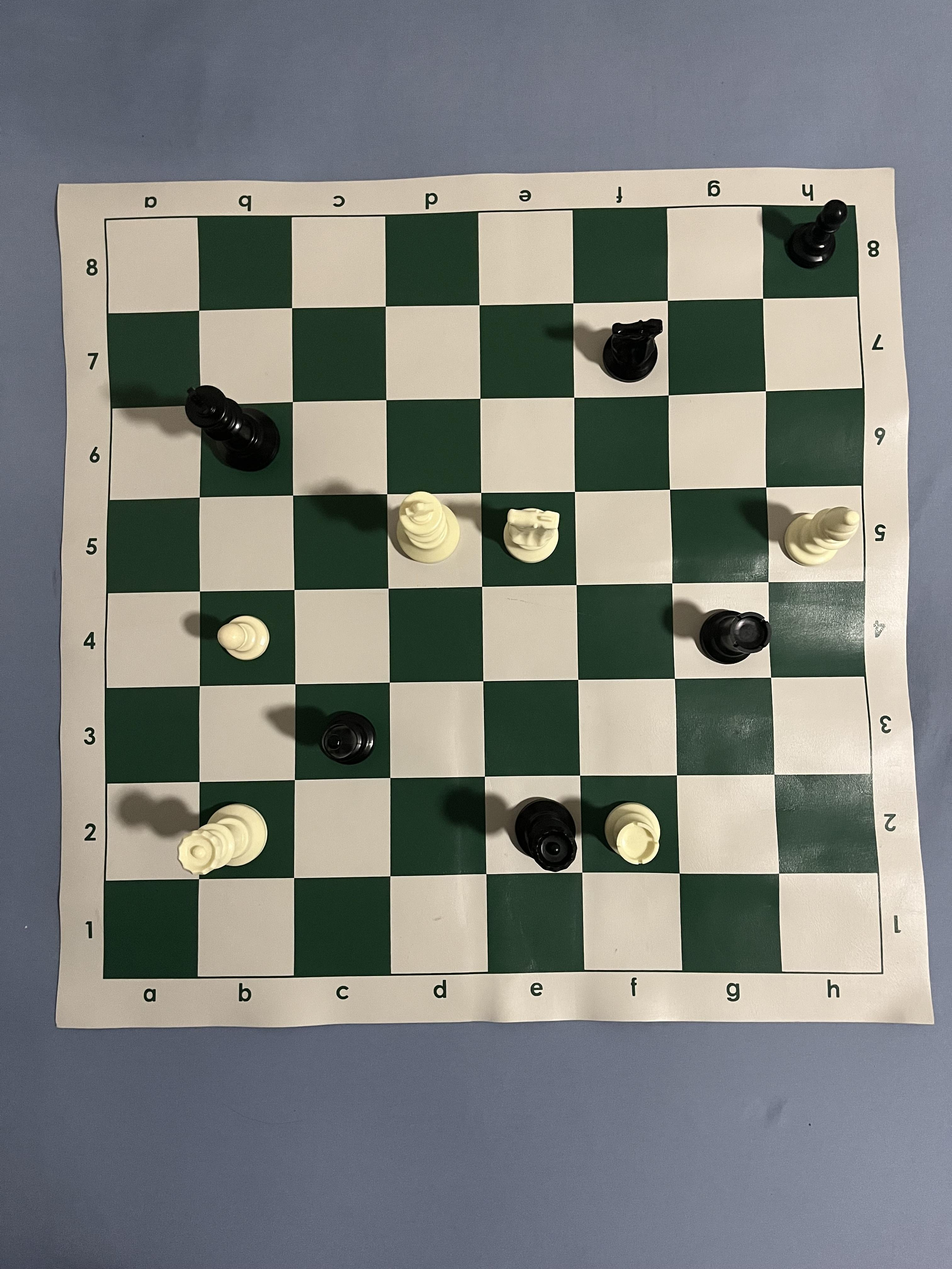black_bishop: (319, 711, 377, 766)
black_king: (184, 384, 280, 472)
black_knight: (603, 319, 663, 382)
black_pawn: (784, 199, 848, 270)
black_queen: (514, 796, 577, 872)
black_rook: (699, 609, 771, 665)
white_bishop: (784, 505, 860, 566)
white_king: (395, 490, 461, 565)
white_knight: (503, 507, 560, 565)
white_pawn: (218, 615, 270, 661)
white_queen: (177, 804, 268, 876)
white_rook: (604, 802, 661, 867)
